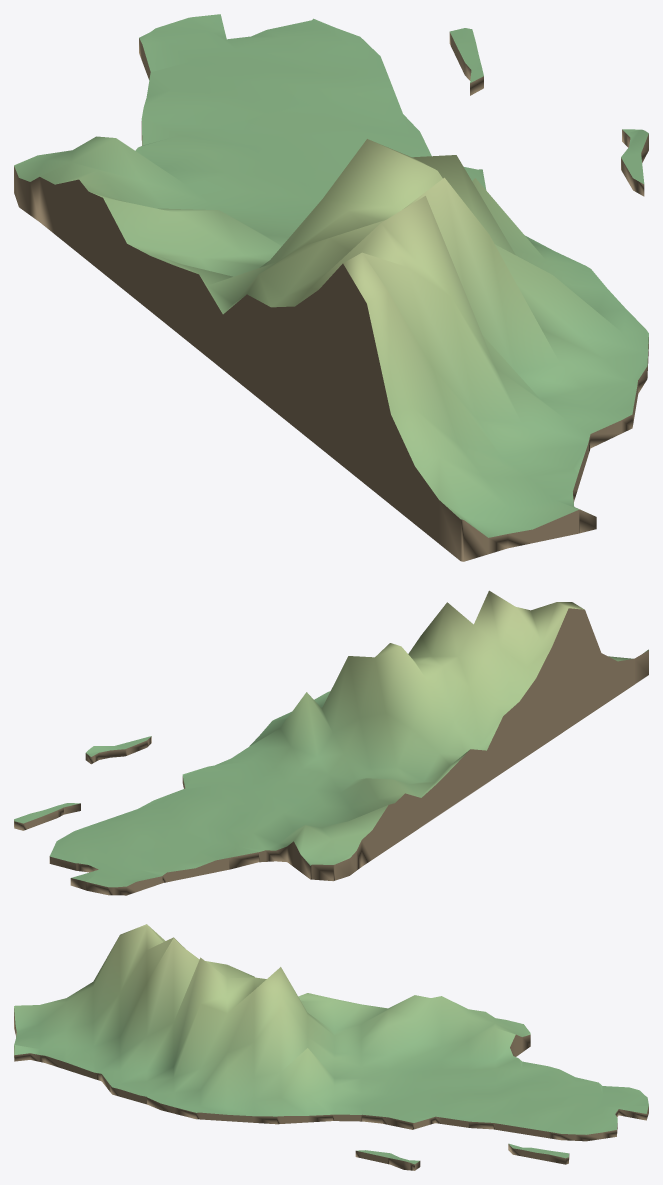
File: BLZ.glb
3 views of the same model, one above another, from view 1: azimuth 30°, elevation 25°; view 2: azimuth 150°, elevation 25°; view 3: azimuth 270°, elevation 25° (orthographic). The views are drawn at different scales.
Visible parts, largest first — view 1: BLZ; view 2: BLZ; view 3: BLZ.
Part boxes in pixels (x1=…): BLZ: x1=14, y1=14, x2=648, y2=561; BLZ: x1=14, y1=590, x2=648, y2=895; BLZ: x1=14, y1=924, x2=648, y2=1170.
Bounding box in the file's own units: 0.8874 × 0.338 × 1.66.
